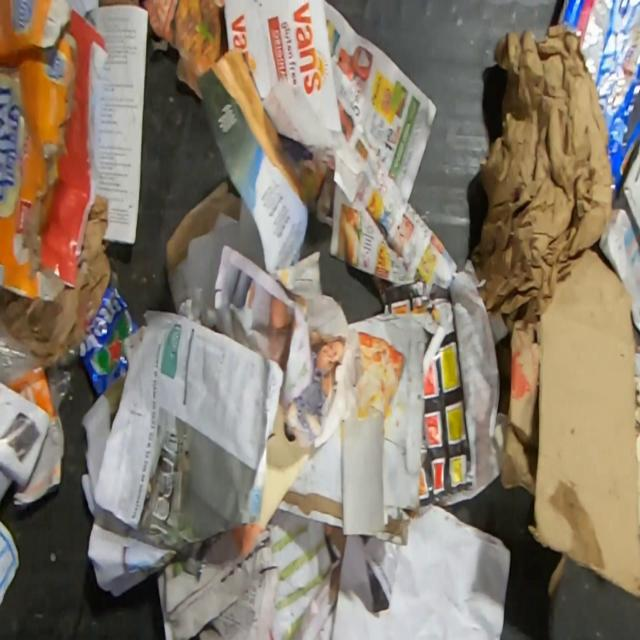cardboard: (528, 238, 640, 596), (498, 318, 539, 498), (165, 180, 241, 272), (548, 554, 570, 592), (635, 373, 640, 485)
metal: (78, 287, 138, 397)
soft_plastic: (555, 0, 640, 207), (43, 339, 80, 415), (0, 319, 35, 385)
